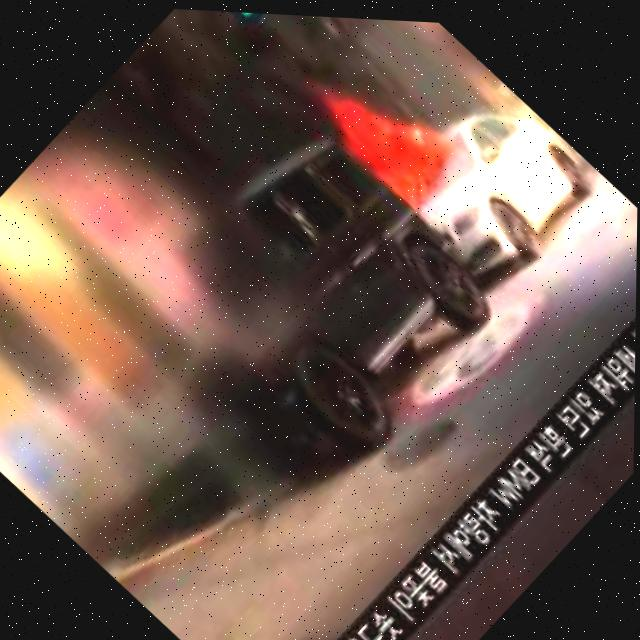Fire: (346, 95, 446, 195)
